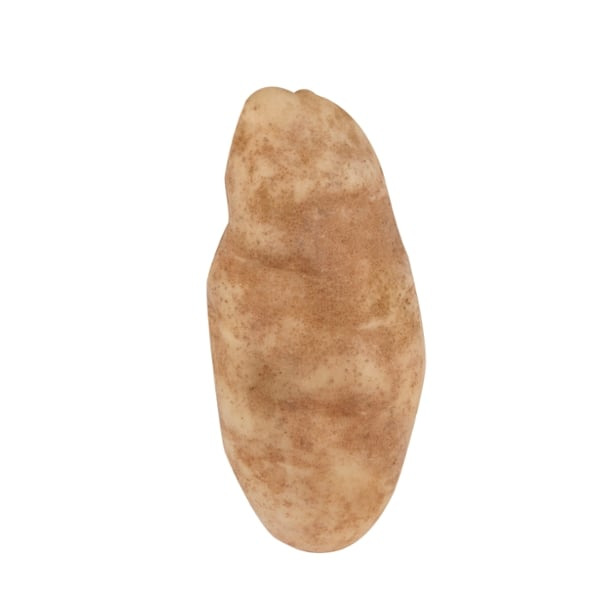potato: (190, 71, 469, 557)
